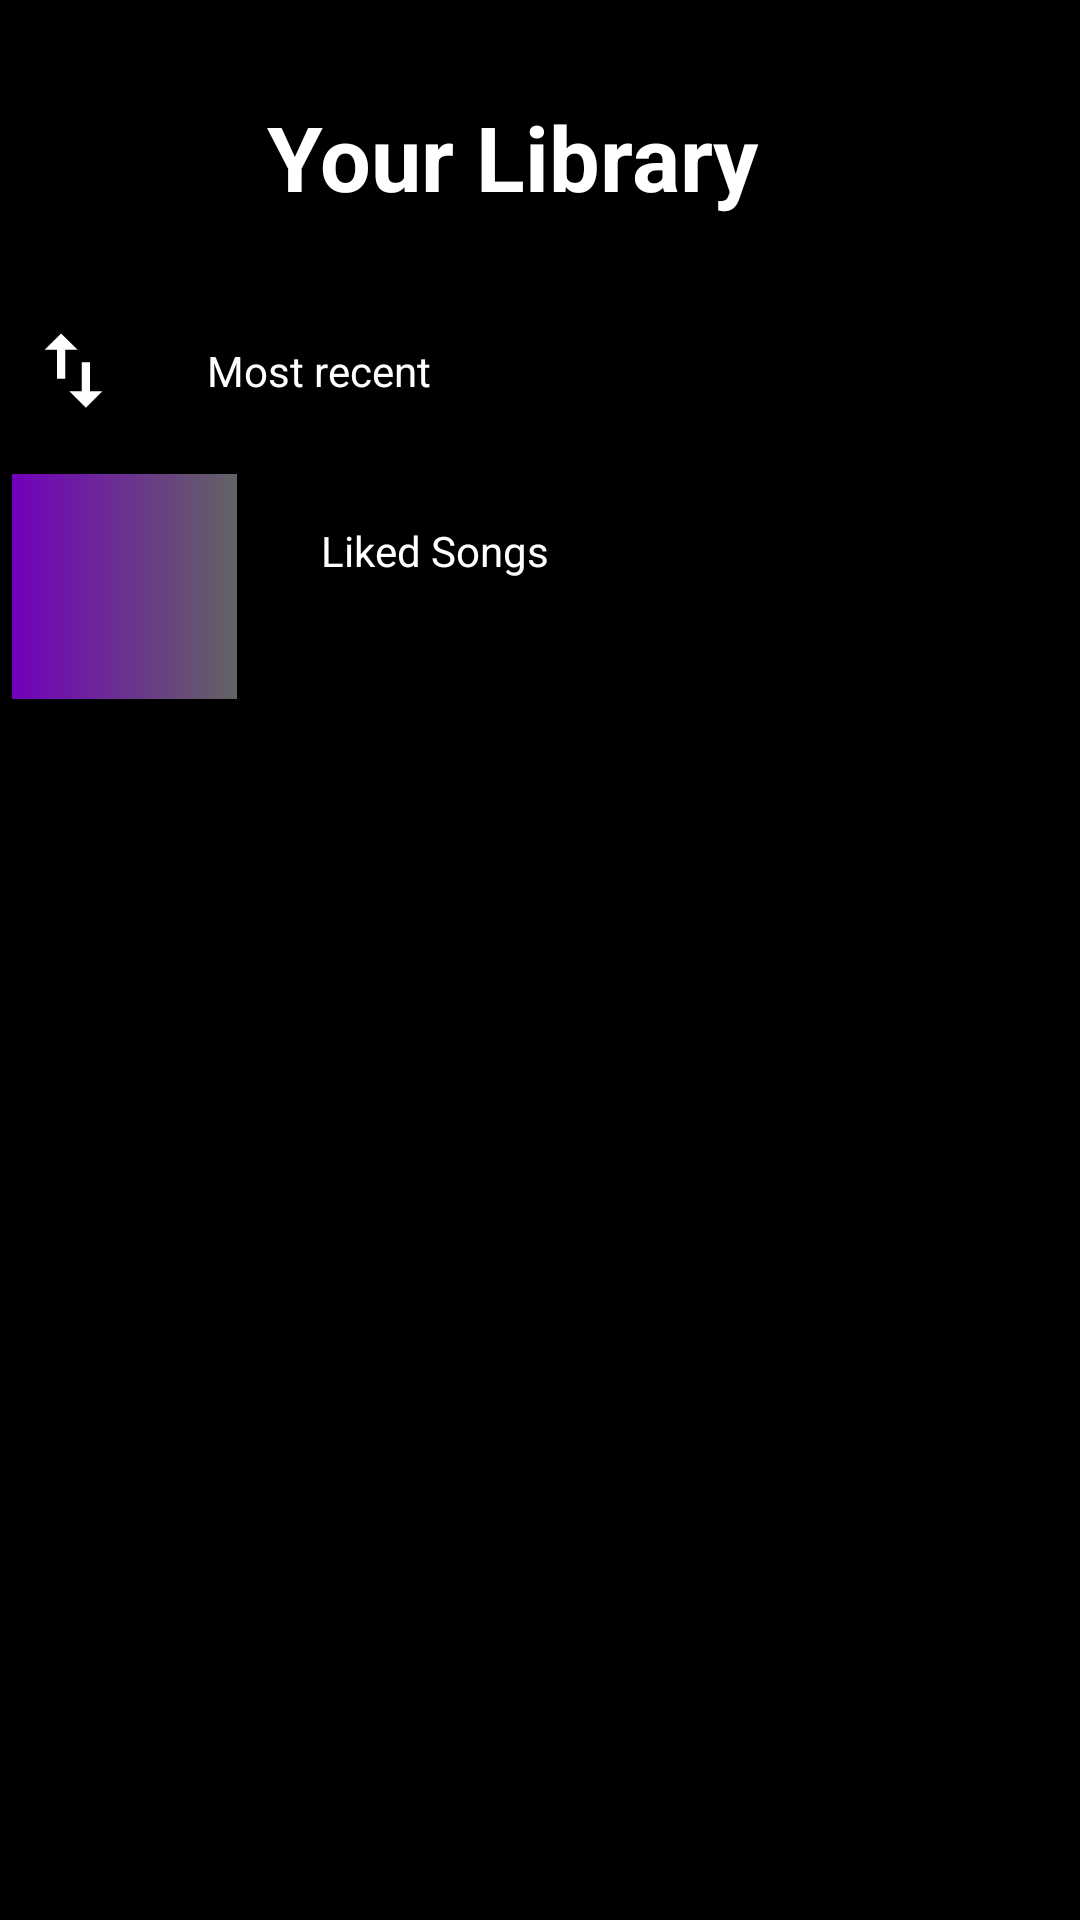

Where icons sit on this 1080px x 1920px app screen, as (left=x1, top=y1, right=x2, bottom=y2):
arrpws: (left=45, top=333, right=102, bottom=408)
